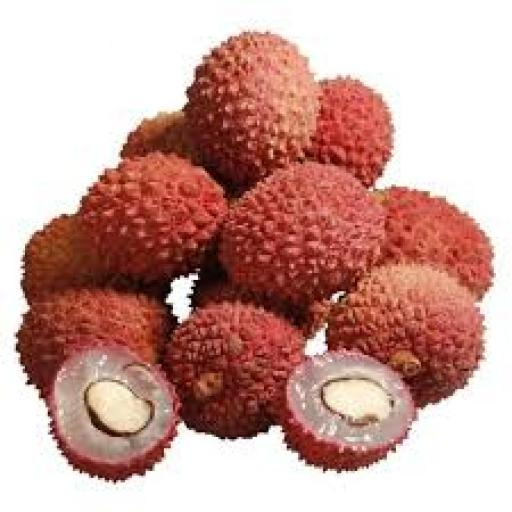lychee: (219, 162, 384, 304), (328, 264, 482, 405), (185, 32, 318, 184), (164, 303, 304, 439), (80, 153, 227, 282), (48, 344, 179, 480), (19, 289, 175, 395), (283, 351, 416, 471), (21, 214, 168, 302), (378, 187, 493, 298), (192, 269, 332, 336), (310, 78, 393, 186), (121, 112, 197, 161)
